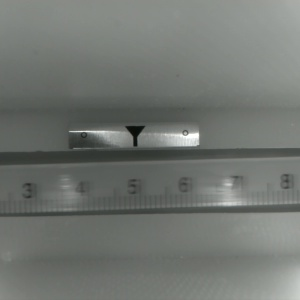3: (21, 184, 34, 200)
5: (127, 178, 138, 194)
6: (177, 176, 188, 193)
8: (280, 173, 293, 190)
finger: (124, 126, 145, 145)
